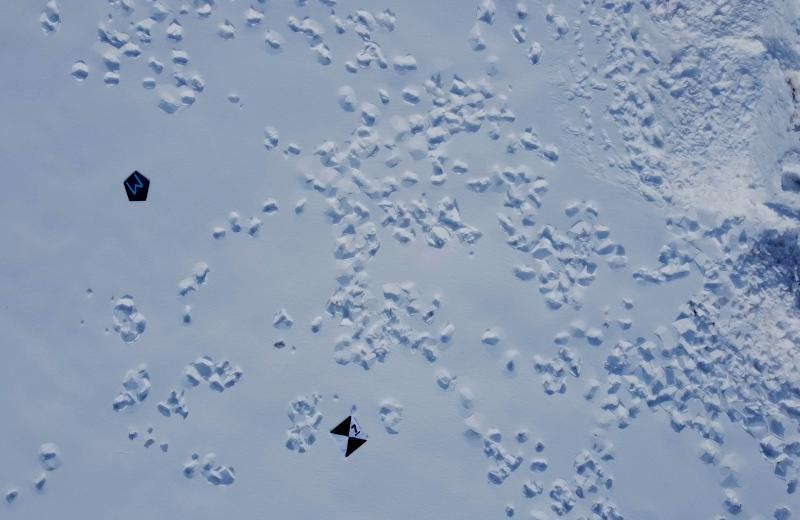Pentagon: (121, 165, 153, 208)
